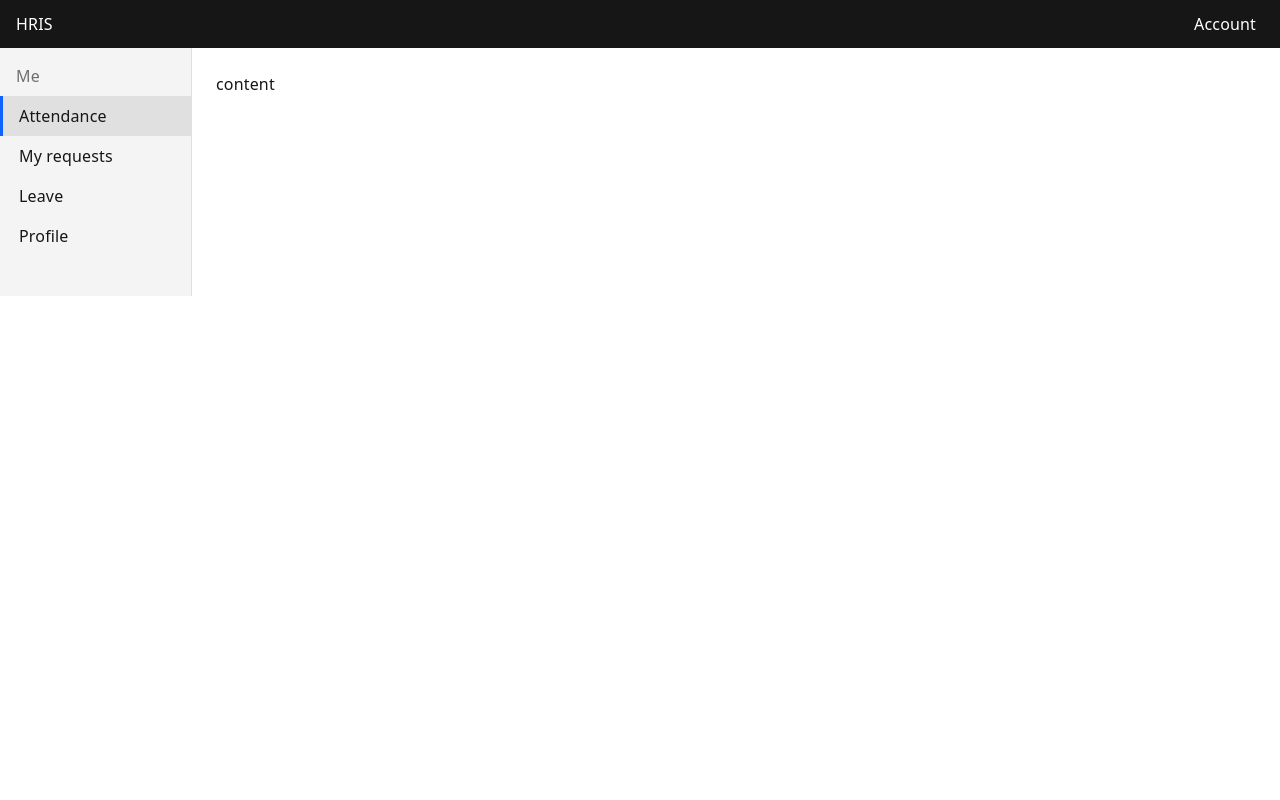
Scenario: AppShell — account menu dismissal › closes on a pointer press outside the menu
Step 1. Click the button with aria-label "Account menu" → [1225, 24], box [1186,8,1264,40]
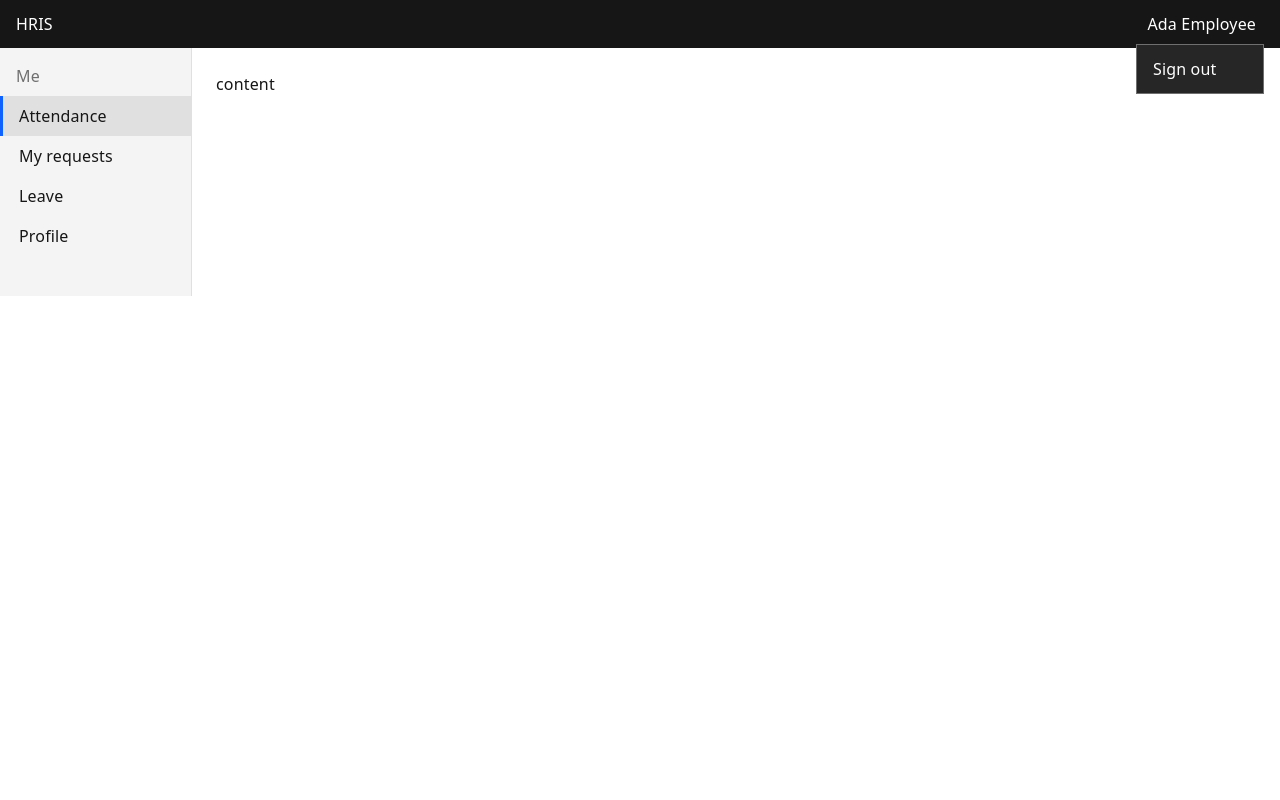
Expected: the menu item "Sign out" is shown, [1137,45,1263,93]
Step 2. Press the mouse on the element that starts with "HRIS" → [640, 400], box [0,0,1279,799]
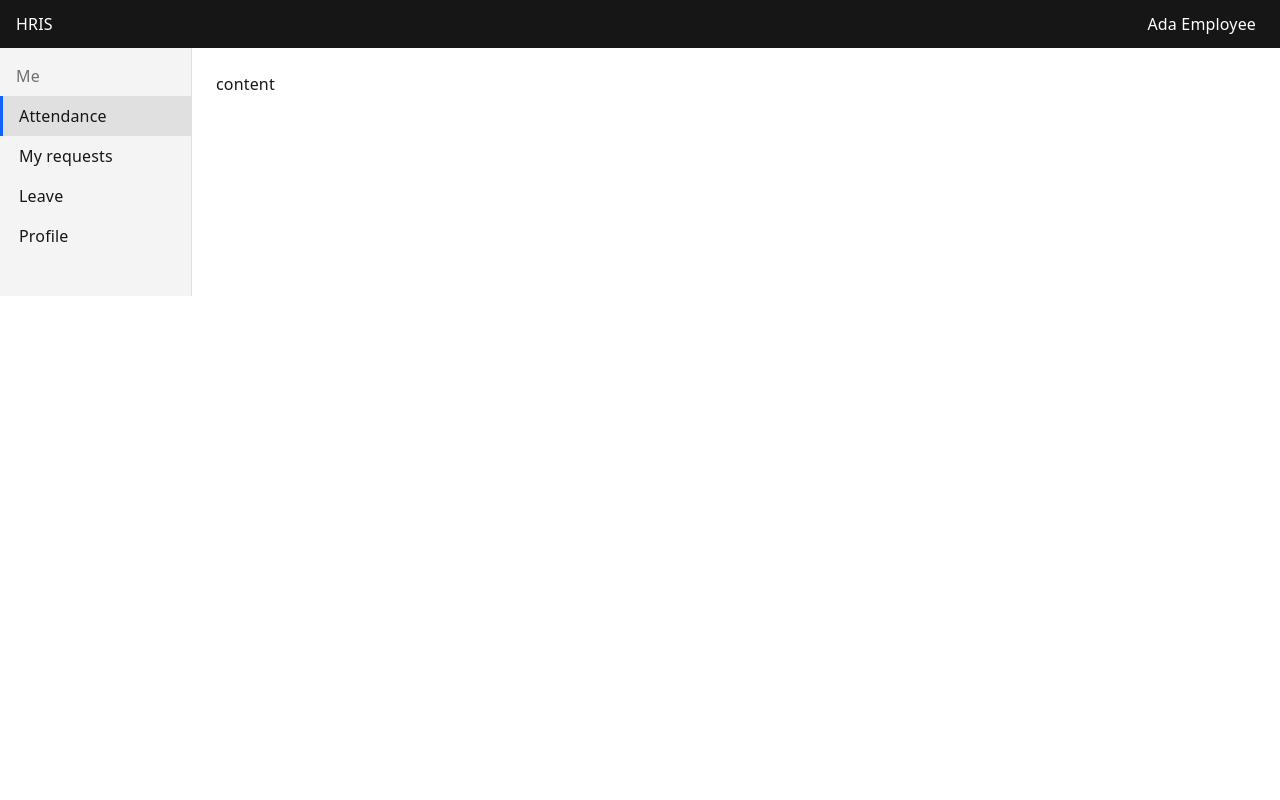
Expected: the menu item "Sign out" is gone
